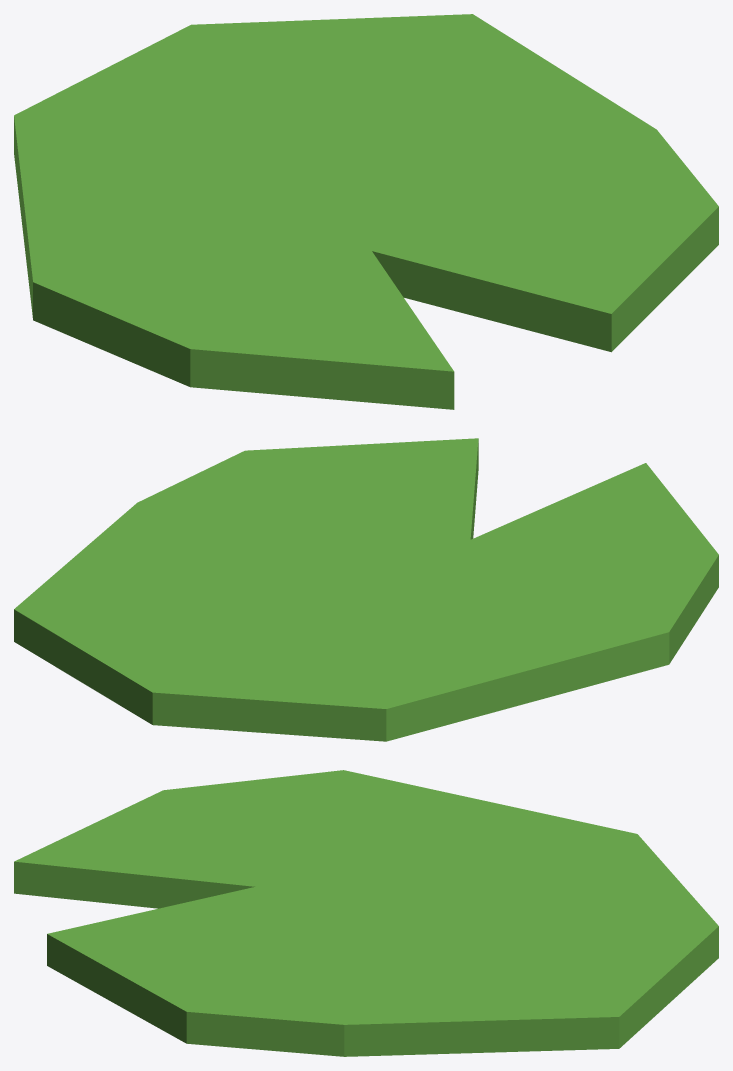
File: LotusLeaf_02.fbx
3 views of the same model, one above another, from view 1: azimuth 30°, elevation 25°; view 2: azimuth 150°, elevation 25°; view 3: azimuth 270°, elevation 25° (orthographic). The views are drawn at different scales.
Visible parts, largest first — view 1: LotusLeaf_02; view 2: LotusLeaf_02; view 3: LotusLeaf_02.
Boxes of the visible parts, box(x1,y1,x2,y2) form: LotusLeaf_02: box(14, 14, 718, 409); LotusLeaf_02: box(14, 438, 718, 741); LotusLeaf_02: box(14, 770, 718, 1056).
Bounding box in the file's own units: 93.2 × 5.45 × 109.
